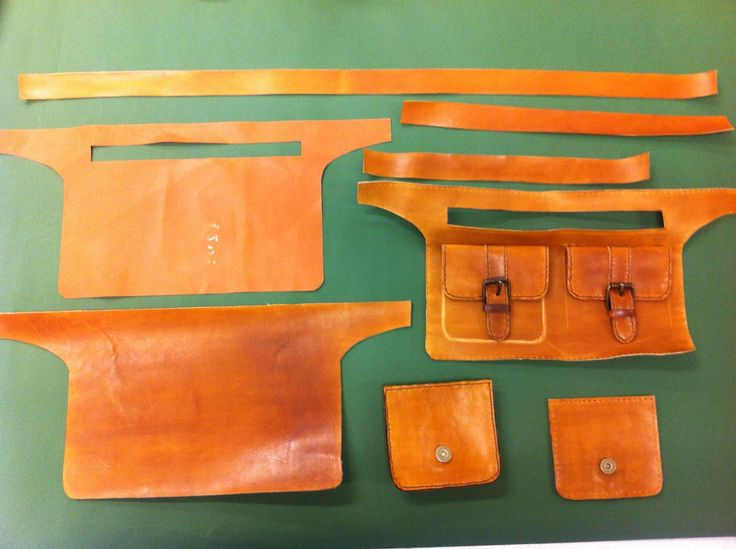cuero: (1, 67, 736, 499)
